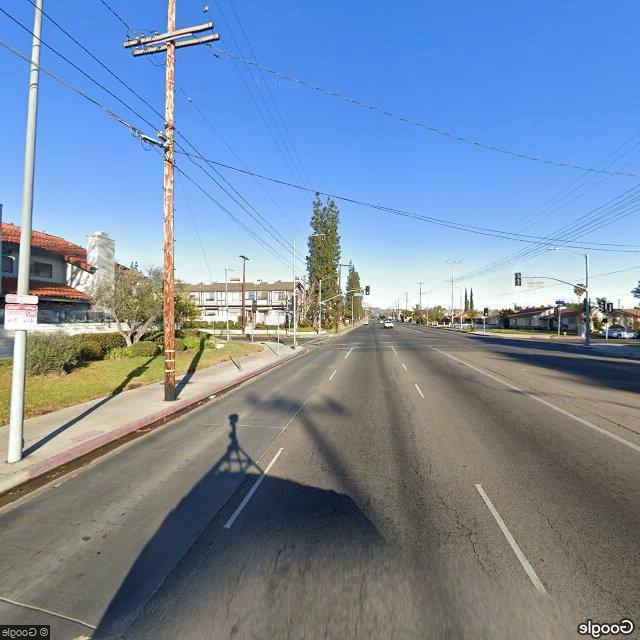crack: (390, 376, 494, 572), (536, 502, 631, 618)
